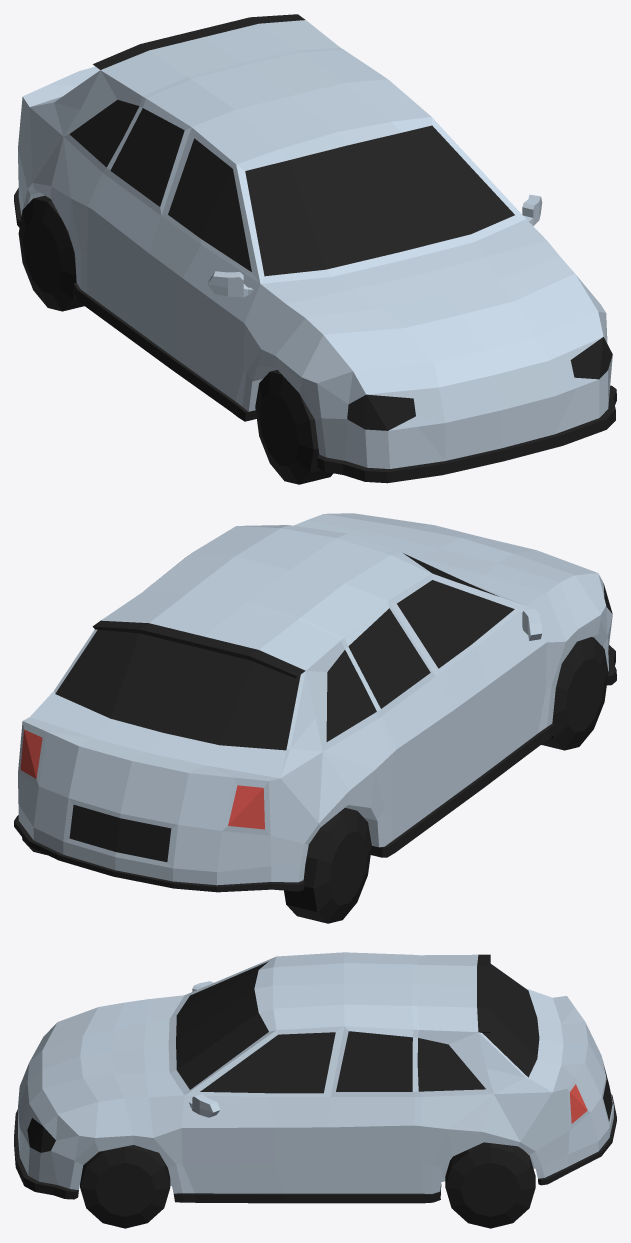
File: CivCar.glb
The picture shows the model from 3 angles, top to bottom: view 1: azimuth 30°, elevation 25°; view 2: azimuth 150°, elevation 25°; view 3: azimuth 270°, elevation 25°; orthographic projection. The views are drawn at different scales.
Parts seen in each view (by area): view 1: NormalCar2; view 2: NormalCar2; view 3: NormalCar2.
Part boxes in pixels (left/top/right/bottom): NormalCar2: left=14, top=14, right=616, bottom=484; NormalCar2: left=14, top=513, right=616, bottom=923; NormalCar2: left=14, top=952, right=616, bottom=1228.
Bounding box in the file's own units: 1.8 × 1.26 × 3.64.
